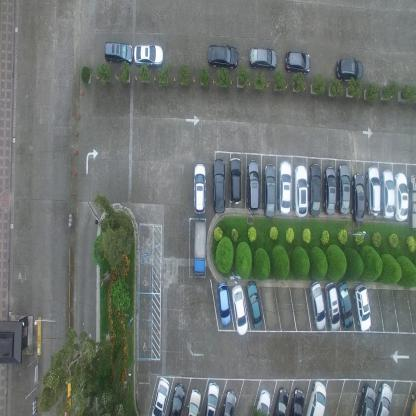car: (352, 282, 370, 332), (308, 280, 326, 330), (231, 284, 248, 336), (278, 158, 293, 216), (206, 43, 238, 69), (211, 157, 225, 216), (365, 165, 381, 216), (336, 280, 353, 328), (308, 160, 322, 218), (293, 163, 308, 217), (102, 40, 133, 66), (324, 281, 340, 331), (150, 375, 170, 415), (246, 280, 263, 327), (193, 221, 207, 276), (192, 162, 206, 216), (245, 159, 259, 213), (336, 57, 364, 84), (337, 162, 351, 216), (248, 45, 277, 71), (393, 171, 408, 221), (263, 162, 276, 218), (323, 164, 337, 216), (306, 380, 326, 416), (351, 171, 365, 222), (132, 43, 163, 66), (354, 383, 376, 415), (284, 49, 310, 76), (381, 169, 395, 219), (228, 156, 241, 207), (373, 382, 393, 415), (217, 280, 231, 326), (204, 382, 220, 415), (169, 382, 185, 415), (408, 171, 416, 230), (288, 386, 304, 415), (254, 388, 271, 415), (273, 386, 288, 415), (220, 389, 236, 415), (187, 388, 201, 415), (407, 388, 416, 415)
